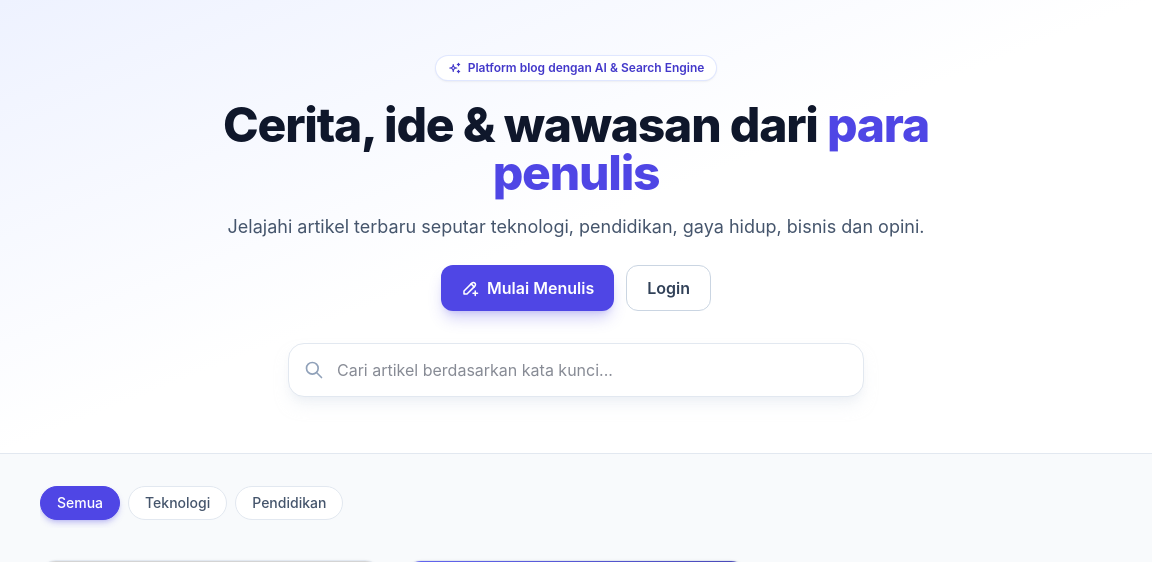
Test: PublicArticleList › filter kategori berbentuk pill
Later steps or results of the test are not shown.
Click the button "Pendidikan" at coordinates (289, 503), box [235,486,343,520]
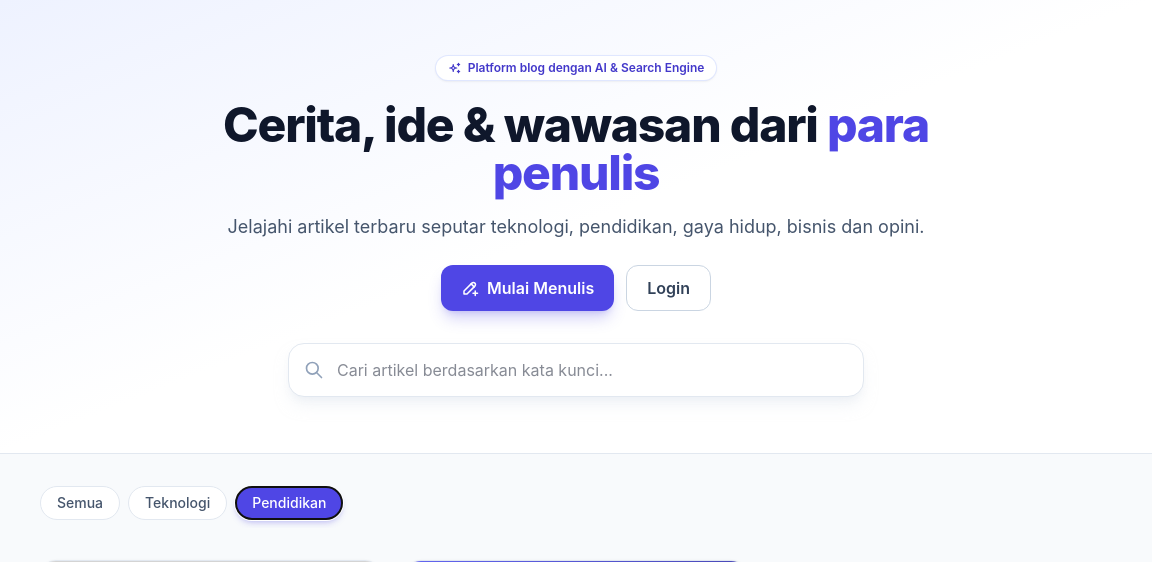
Now the button "Pendidikan" is pressed, box [235,486,343,520]
